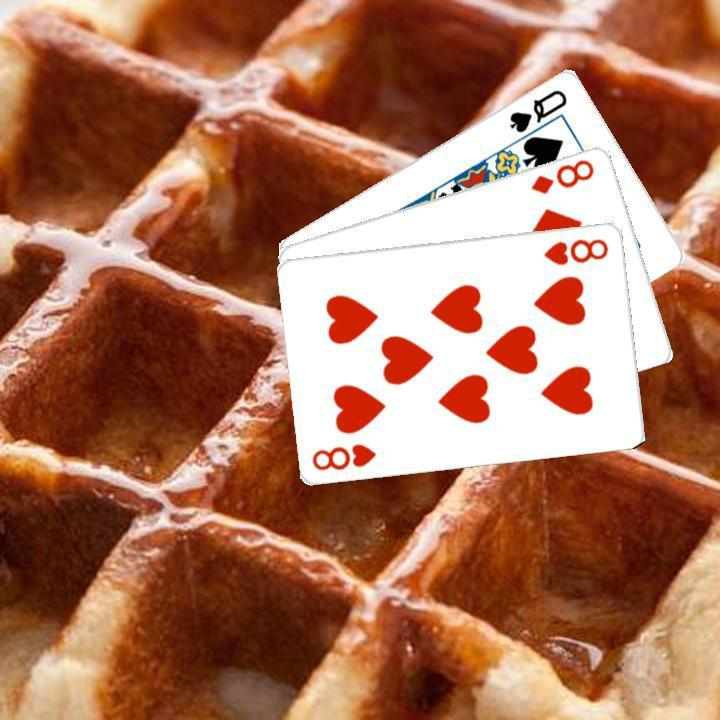8: (526, 154, 597, 196), (539, 233, 611, 267), (308, 439, 378, 472)
Q: (505, 84, 570, 135)
